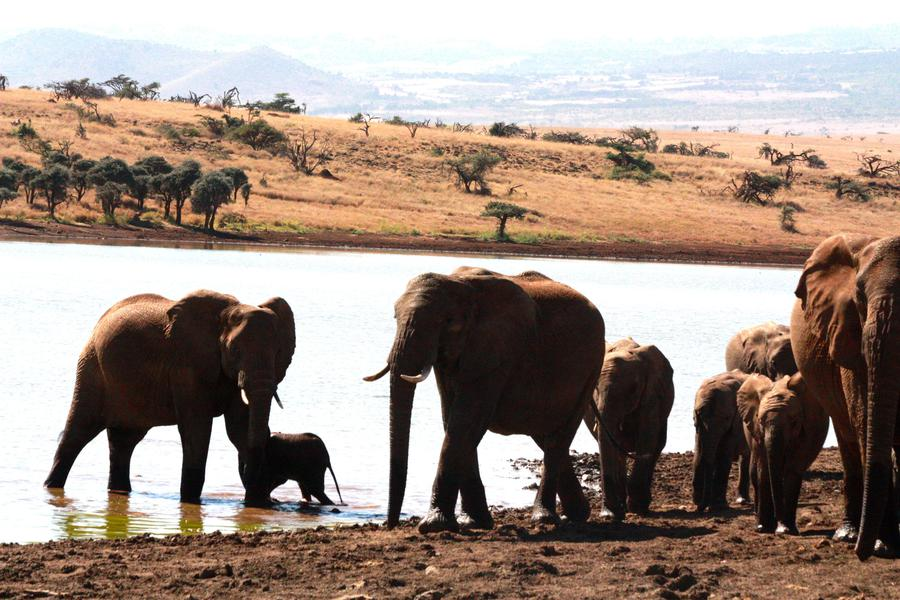elephant: (173, 292, 304, 415), (743, 376, 837, 481)
